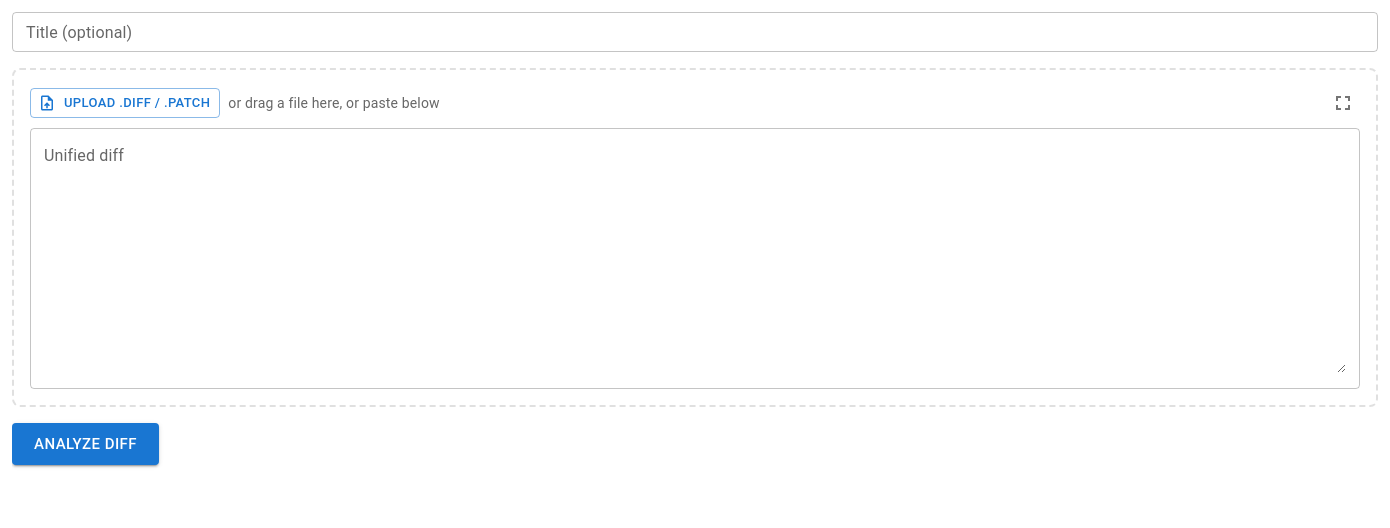
Test: DiffInput › shows a validation error when submitting an empty diff
Step 1. Click the button "Analyze diff" → (85, 444), box x1=12 y1=423 x2=159 y2=465
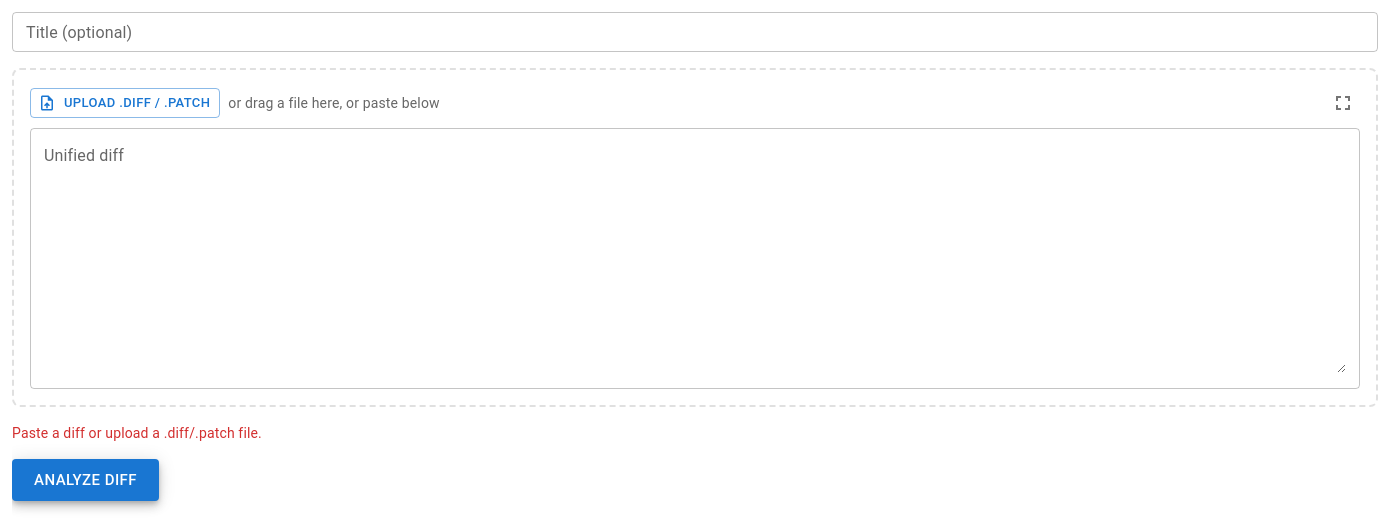
Check: the text "Paste a diff or upload a .diff/.patch file." is shown, box x1=12 y1=425 x2=262 y2=441
